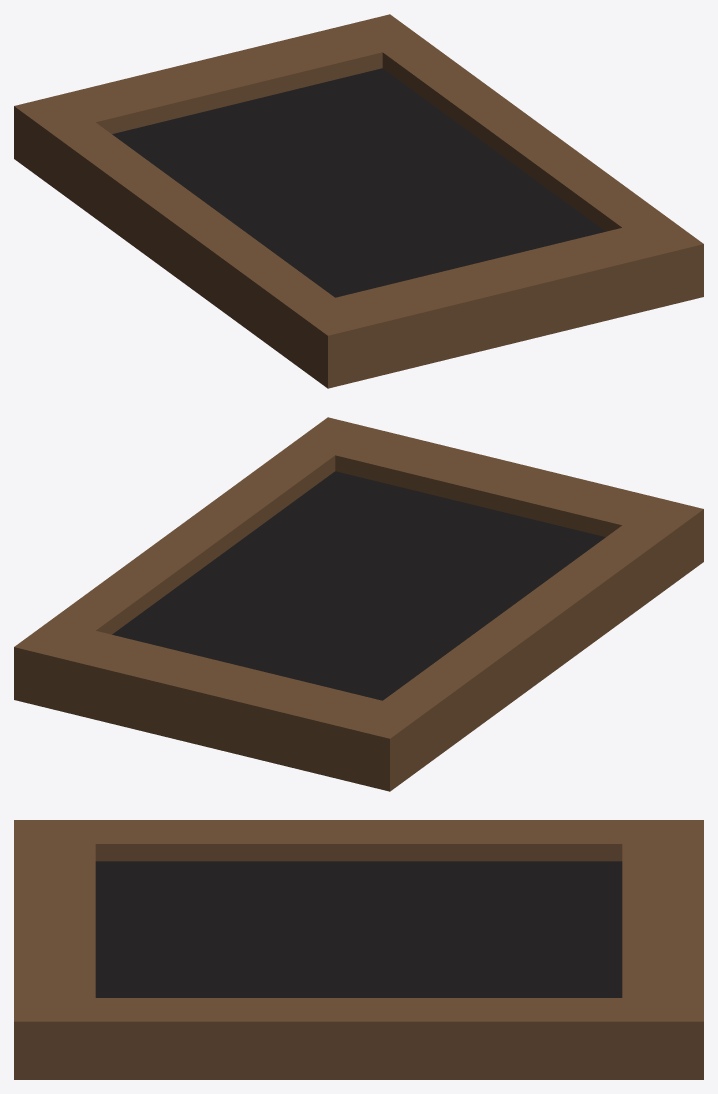
File: blackboard.fbx
3 views of the same model, one above another, from view 1: azimuth 30°, elevation 25°; view 2: azimuth 150°, elevation 25°; view 3: azimuth 270°, elevation 25° (orthographic). The views are drawn at different scales.
Visible parts, largest first — view 1: polySurface1, polySurface2; view 2: polySurface1, polySurface2; view 3: polySurface1, polySurface2.
Part boxes in pixels (x1,y1,x2,y2): polySurface1: [14, 14, 703, 388]; polySurface2: [112, 68, 605, 297]; polySurface1: [14, 417, 703, 791]; polySurface2: [112, 471, 605, 700]; polySurface1: [14, 820, 703, 1079]; polySurface2: [95, 861, 622, 997].
Bounding box in the file's own units: 1.67 × 0.225 × 2.42.
